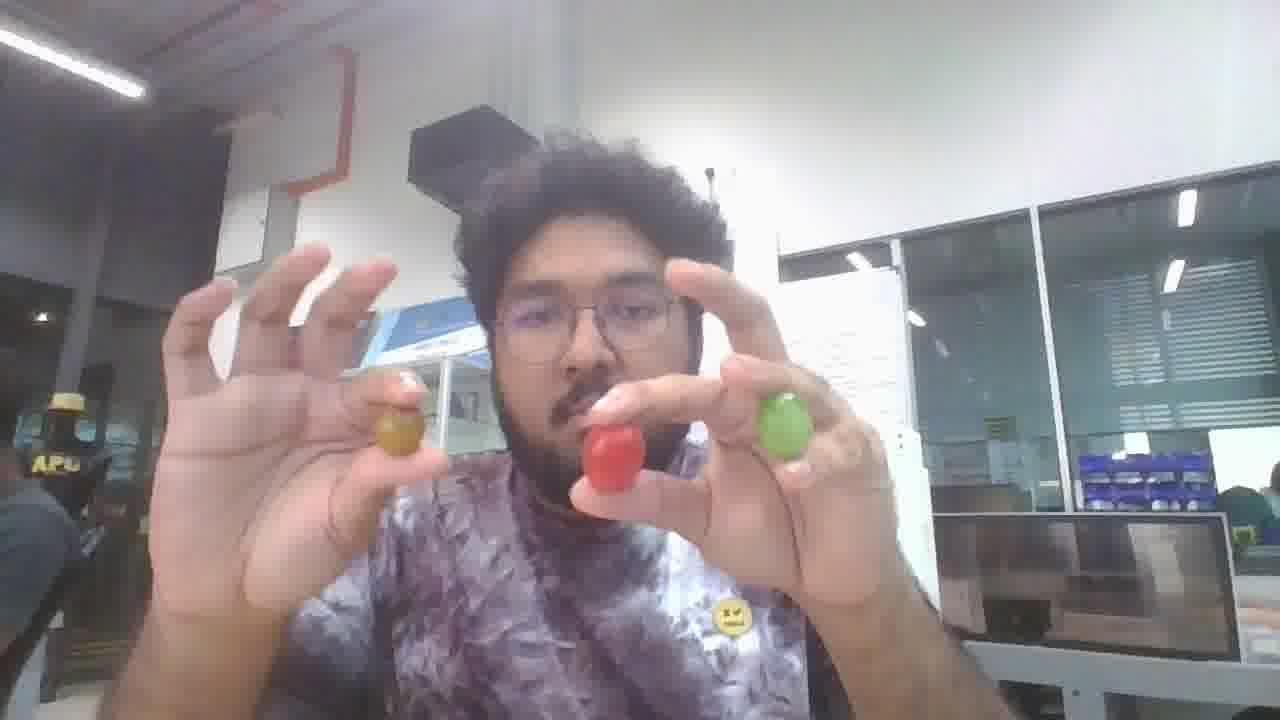green_cherry_tomato: (756, 392, 813, 460)
red_cherry_tomato: (583, 425, 645, 493)
yellow_cherry_tomato: (374, 408, 424, 455)
